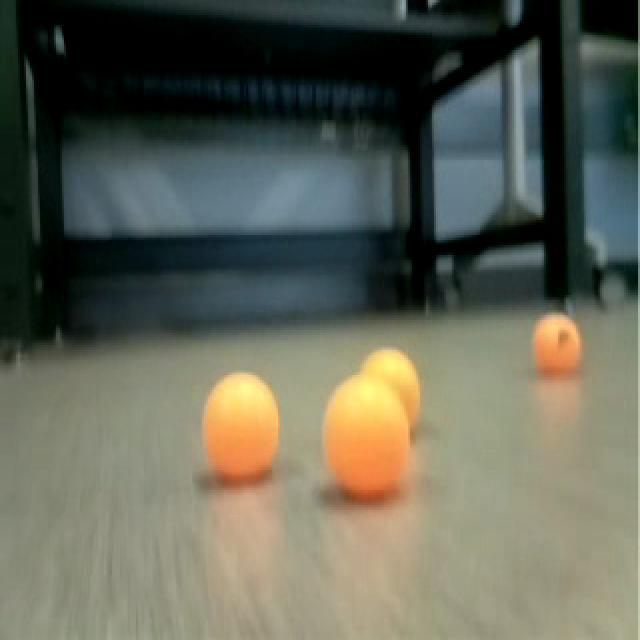oball: (319, 381, 416, 504), (194, 368, 282, 484), (362, 340, 426, 430), (528, 307, 588, 383)
